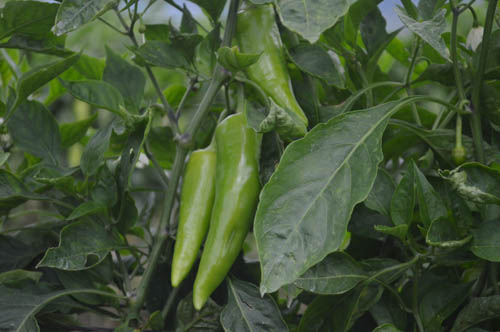ChiliPepper: (193, 112, 262, 306), (235, 6, 308, 132), (171, 151, 214, 294)
